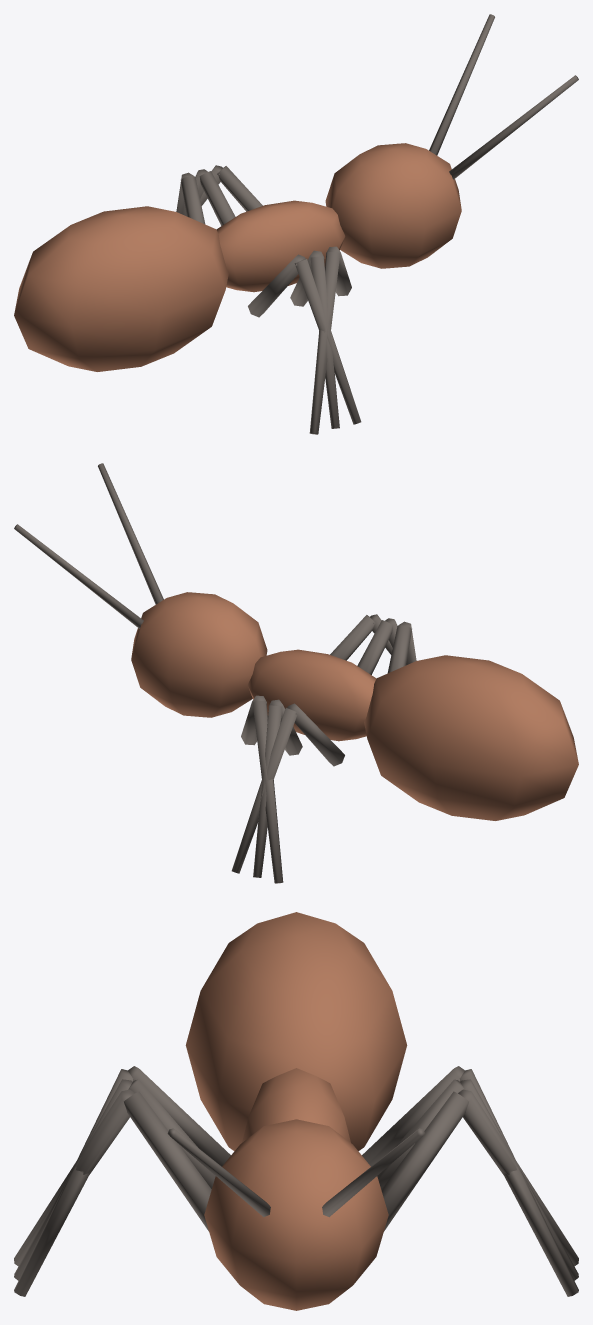
Rendered from siemssens-carpenter-ant.glb.
3 views of the same model, one above another, from view 1: azimuth 30°, elevation 25°; view 2: azimuth 150°, elevation 25°; view 3: azimuth 270°, elevation 25° (orthographic). The views are drawn at different scales.
Visible parts, largest first — view 1: e; view 2: e; view 3: e.
Boxes of the visible parts, left/top/right/bottom form: e: left=14, top=14, right=578, bottom=434; e: left=14, top=463, right=578, bottom=883; e: left=14, top=912, right=578, bottom=1310.
Size of the model in its own units: 0.3372 by 0.1517 by 0.2143.
